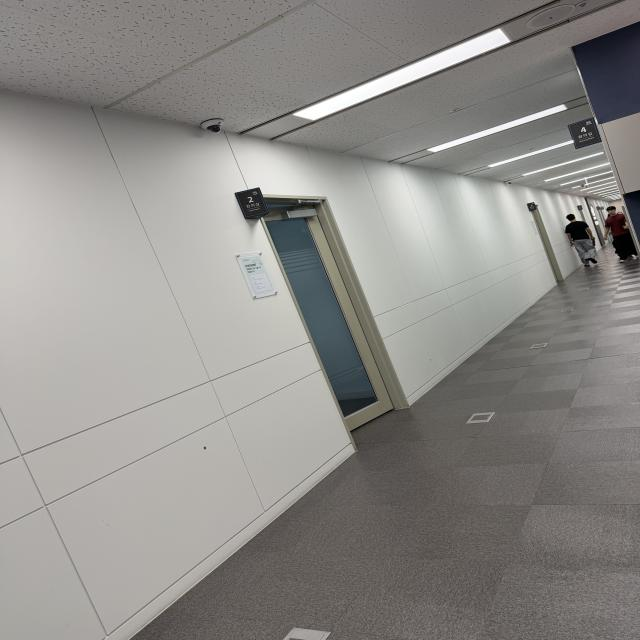sign: (234, 188, 268, 216)
